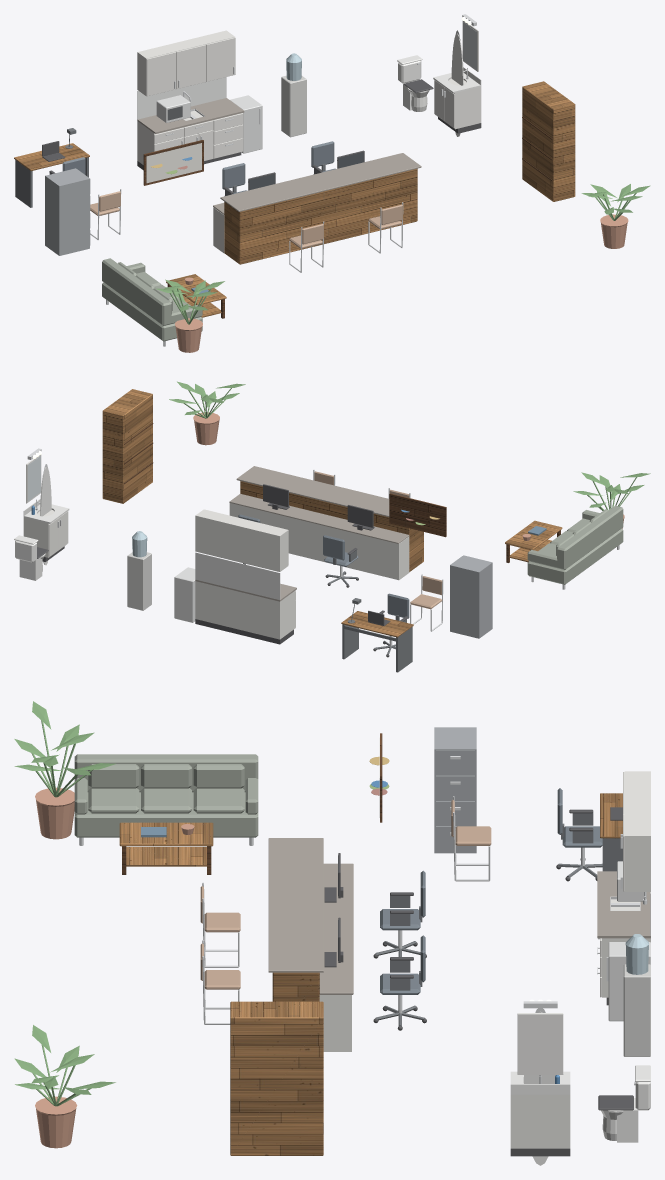
Rendered from office_furn.glb.
3 views of the same model, one above another, from view 1: azimuth 30°, elevation 25°; view 2: azimuth 150°, elevation 25°; view 3: azimuth 270°, elevation 25° (orthographic). The views are drawn at different scales.
Visible parts, largest first — view 1: office_furn_wood, office_furn_cab, office_furn_ctop, office_furn_fabric_g, office_furn_steel, office_furn_porcelain, office_furn_plant, office_furn_appl, office_furn_pot, office_furn_fabric_t, office_furn_tile_w, office_furn_cart_w (+8 smaller); view 2: office_furn_cab, office_furn_wood, office_furn_ctop, office_furn_fabric_g, office_furn_steel, office_furn_tile_w, office_furn_dark, office_furn_dkwood, office_furn_porcelain, office_furn_plant, office_furn_steel_d, office_furn_cart_w (+6 smaller); view 3: office_furn_wood, office_furn_fabric_g, office_furn_ctop, office_furn_cab, office_furn_steel, office_furn_plant, office_furn_pot, office_furn_steel_d, office_furn_porcelain, office_furn_dark, office_furn_trim, office_furn_fabric_t (+5 smaller).
Boxes of the visible parts, <box> form: office_furn_wood: <box>14,81,575,317</box>; office_furn_cab: <box>137,30,481,253</box>; office_furn_ctop: <box>137,98,421,214</box>; office_furn_fabric_g: <box>102,258,202,341</box>; office_furn_steel: <box>45,168,90,255</box>; office_furn_porcelain: <box>397,33,481,136</box>; office_furn_plant: <box>155,184,650,324</box>; office_furn_appl: <box>156,95,262,153</box>; office_furn_pot: <box>175,214,628,352</box>; office_furn_fabric_t: <box>90,191,402,248</box>; office_furn_tile_w: <box>137,77,226,119</box>; office_furn_cart_w: <box>281,75,306,137</box>; office_furn_cab: <box>23,503,409,639</box>; office_furn_wood: <box>102,389,562,637</box>; office_furn_ctop: <box>195,466,409,601</box>; office_furn_fabric_g: <box>527,505,623,584</box>; office_furn_steel: <box>450,555,492,638</box>; office_furn_tile_w: <box>195,552,280,599</box>; office_furn_dark: <box>37,484,408,657</box>; office_furn_dkwood: <box>124,423,560,562</box>; office_furn_porcelain: <box>14,467,69,580</box>; office_furn_plant: <box>169,381,650,510</box>; office_furn_steel_d: <box>326,550,412,672</box>; office_furn_cart_w: <box>127,552,151,610</box>; office_furn_wood: <box>119,793,622,1155</box>; office_furn_fabric_g: <box>74,754,258,837</box>; office_furn_ctop: <box>268,838,650,994</box>; office_furn_cab: <box>319,771,650,1148</box>; office_furn_steel: <box>434,727,476,853</box>; office_furn_plant: <box>14,701,115,1106</box>; office_furn_pot: <box>35,787,194,1148</box>; office_furn_steel_d: <box>375,813,622,1026</box>; office_furn_porcelain: <box>510,1011,650,1165</box>; office_furn_dark: <box>324,807,633,1156</box>; office_furn_trim: <box>517,1013,563,1074</box>; office_furn_fabric_t: <box>200,800,491,989</box>.
Bounding box in the file's own units: 9.98 × 2.45 × 7.5.
30 materials, 2 textured.
